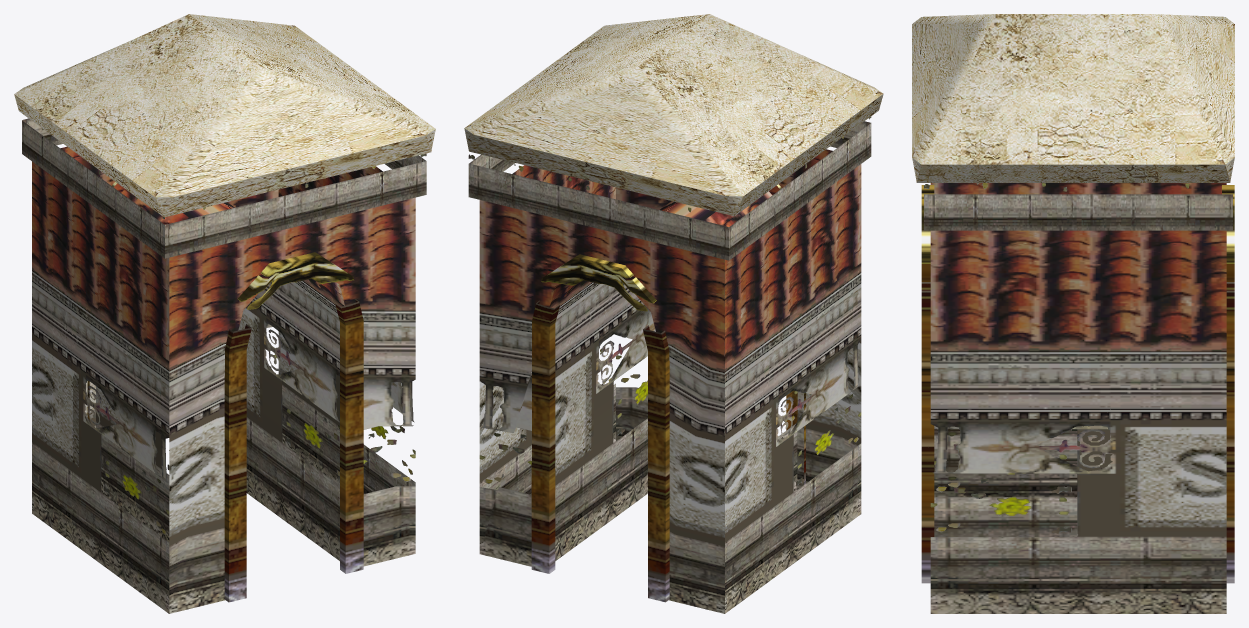
Rendered from rome_alt_arch_sm.dae.
3 renders of one model, left to right at view 1: azimuth 30°, elevation 25°; view 2: azimuth 150°, elevation 25°; view 3: azimuth 270°, elevation 25°, orthographic. The views are drawn at different scales.
Parts seen in each view (by area): view 1: Object01; view 2: Object01; view 3: Object01.
Boxes of the visible parts, x1,y1,x2,y2 form: Object01: (14,14,435,613); Object01: (464,14,883,613); Object01: (912,14,1234,613).
Bounding box in the file's own units: 5.95 × 5.49 × 10.02.
